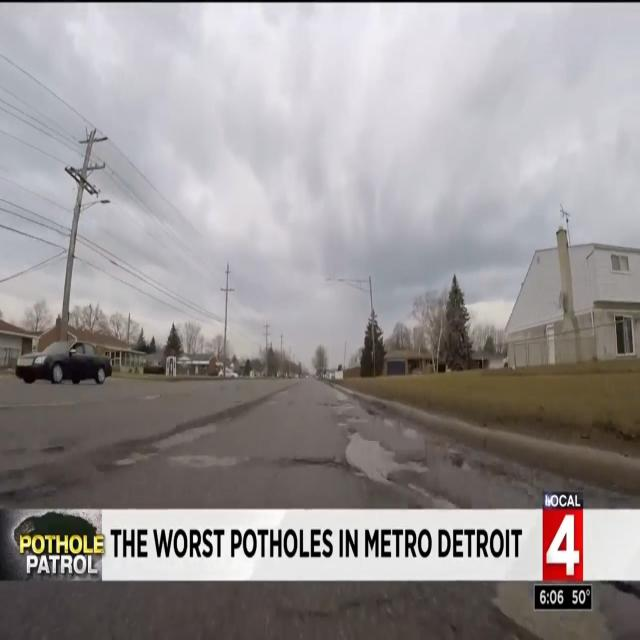pothole: (492, 583, 603, 640), (112, 422, 216, 468), (346, 431, 428, 486), (586, 487, 640, 508), (168, 455, 238, 467), (348, 416, 368, 423)
